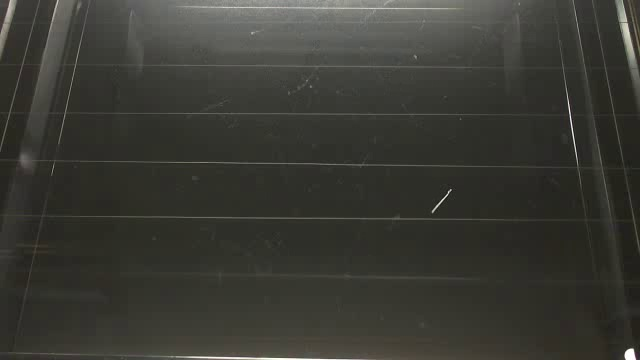Alfa: (427, 186, 455, 217)
